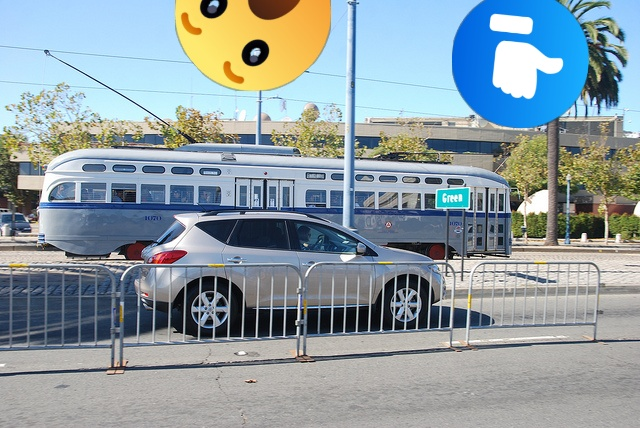like: (452, 0, 589, 128)
wow: (175, 0, 331, 91)
